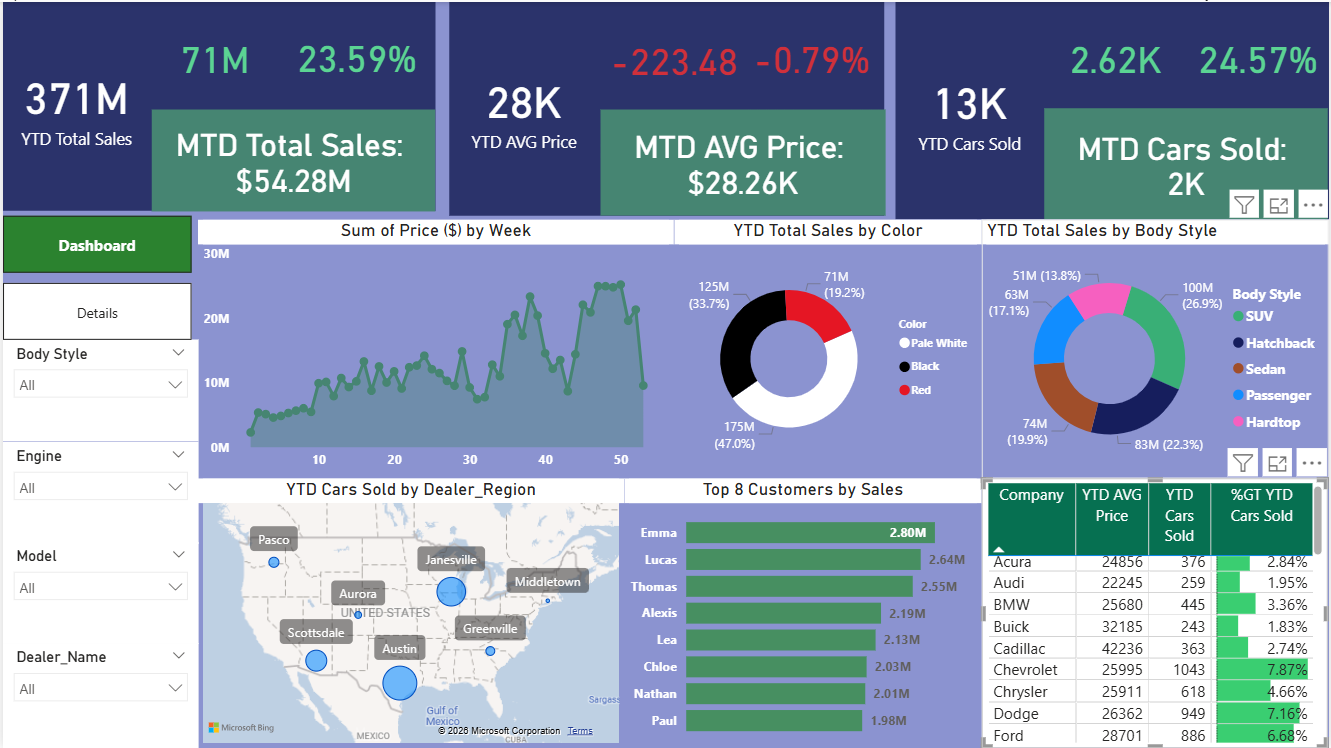

The page's visual inventory and layout, read from the dashboard file:
{"tool":"powerbi","page":{"name":"Dashboard","canvas":[1280,720],"ordinal":0},"visuals":[{"type":"shape","box":[0,0,417.4,201.5],"z":0},{"type":"shape","box":[861.4,0,418.6,209.9],"z":1000},{"type":"shape","box":[430.7,0,419.8,206.3],"z":2000},{"type":"card","fields":{"Values":["All Measure.YTD Total Sales"]},"box":[0,0,142.4,200.3],"z":3000},{"type":"card","fields":{"Values":["All Measure.Sales Diff"]},"box":[142.5,0,125,105],"z":4000},{"type":"card","fields":{"Values":["All Measure.YOY Total Sales"]},"box":[267.5,0,148.8,103.8],"z":5000},{"type":"card","fields":{"Values":["All Measure.Measure"]},"box":[143.8,103.8,273.8,98.8],"z":6000},{"type":"card","fields":{"Values":["All Measure.YTD AVG Price"]},"box":[430.7,0,144.8,206.3],"z":7000},{"type":"card","fields":{"Values":["All Measure.AVG Price Diff"]},"box":[580.3,3.6,135.1,101.3],"z":8000},{"type":"card","fields":{"Values":["All Measure.YOY AVG Price"]},"box":[715.4,0,130.3,105],"z":9000},{"type":"card","fields":{"Values":["All Measure.Measure 2"]},"box":[576.2,103.8,275,102.5],"z":10000},{"type":"card","fields":{"Values":["All Measure.YTD Cars Sold"]},"box":[861.2,0,143.8,210],"z":11000},{"type":"card","fields":{"Values":["All Measure.Cars Sold Diff"]},"box":[1005,0,138.8,105],"z":12000},{"type":"card","fields":{"Values":["All Measure.YOY Cars Sold"]},"box":[1143.8,0,136.2,105],"z":13000},{"type":"card","fields":{"Values":["All Measure.Measure 3"]},"box":[1005,102.5,273.9,107.4],"z":14000},{"type":"areaChart","fields":{"Y":["Sum(car_data.Price ($))"],"Category":["Dates.Week"]},"box":[188.1,209.6,459.6,250],"z":15000},{"type":"donutChart","fields":{"Y":["All Measure.YTD Total Sales"],"Category":["car_data.Color"]},"box":[647.7,209.6,296.7,250],"z":16000},{"type":"donutChart","fields":{"Y":["All Measure.YTD Total Sales"],"Category":["car_data.Body Style"]},"box":[944.4,209.6,335.8,250],"z":17000},{"type":"tableEx","fields":{"Values":["car_data.Company","All Measure.YTD AVG Price","All Measure.YTD Cars Sold1","All Measure.YTD Cars Sold"]},"box":[945,460,333.8,260],"z":18000},{"type":"map","fields":{"Size":["All Measure.YTD Cars Sold"],"Category":["car_data.Dealer_Region"]},"box":[188.8,460,411.2,260],"z":19000},{"type":"slicer","fields":{"Values":["car_data.Body Style"]},"box":[0,325.7,188.6,98.6],"z":20000},{"type":"slicer","fields":{"Values":["car_data.Engine"]},"box":[0,424.3,188.6,98.6],"z":21000},{"type":"slicer","fields":{"Values":["car_data.Model"]},"box":[0,521.2,188.8,98.8],"z":22000},{"type":"slicer","fields":{"Values":["car_data.Dealer_Name"]},"box":[0,618.8,188.8,101.2],"z":23000},{"type":"pageNavigator","box":[0,205.7,182.9,120],"z":24000},{"type":"barChart","title":"Top 8 Customers by Sales","fields":{"Category":["car_data.Customer Name"],"Y":["Sum(car_data.Price ($))"]},"box":[600,460,345,260],"z":25000}]}

Visuals, with their boxes in screenshot pixels (x1, y1, x2, y2), scaled from the page's 1280x720 canvas onto the 1331x748 screenshot:
shape: x1=0 y1=0 x2=434 y2=209
shape: x1=896 y1=0 x2=1330 y2=218
shape: x1=448 y1=0 x2=884 y2=214
card - All Measure.YTD Total Sales: x1=0 y1=0 x2=148 y2=208
card - All Measure.Sales Diff: x1=148 y1=0 x2=278 y2=109
card - All Measure.YOY Total Sales: x1=278 y1=0 x2=433 y2=108
card - All Measure.Measure: x1=150 y1=108 x2=434 y2=210
card - All Measure.YTD AVG Price: x1=448 y1=0 x2=598 y2=214
card - All Measure.AVG Price Diff: x1=603 y1=4 x2=744 y2=109
card - All Measure.YOY AVG Price: x1=744 y1=0 x2=879 y2=109
card - All Measure.Measure 2: x1=599 y1=108 x2=885 y2=214
card - All Measure.YTD Cars Sold: x1=896 y1=0 x2=1045 y2=218
card - All Measure.Cars Sold Diff: x1=1045 y1=0 x2=1189 y2=109
card - All Measure.YOY Cars Sold: x1=1189 y1=0 x2=1330 y2=109
card - All Measure.Measure 3: x1=1045 y1=106 x2=1330 y2=218
areaChart - Sum(car_data.Price ($)) x Dates.Week: x1=196 y1=218 x2=674 y2=477
donutChart - All Measure.YTD Total Sales x car_data.Color: x1=674 y1=218 x2=982 y2=477
donutChart - All Measure.YTD Total Sales x car_data.Body Style: x1=982 y1=218 x2=1330 y2=477
tableEx - car_data.Company x All Measure.YTD AVG Price: x1=983 y1=478 x2=1330 y2=747
map - All Measure.YTD Cars Sold x car_data.Dealer_Region: x1=196 y1=478 x2=624 y2=747
slicer - car_data.Body Style: x1=0 y1=338 x2=196 y2=441
slicer - car_data.Engine: x1=0 y1=441 x2=196 y2=543
slicer - car_data.Model: x1=0 y1=541 x2=196 y2=644
slicer - car_data.Dealer_Name: x1=0 y1=643 x2=196 y2=747
pageNavigator: x1=0 y1=214 x2=190 y2=338
"Top 8 Customers by Sales" barChart: x1=624 y1=478 x2=983 y2=747
